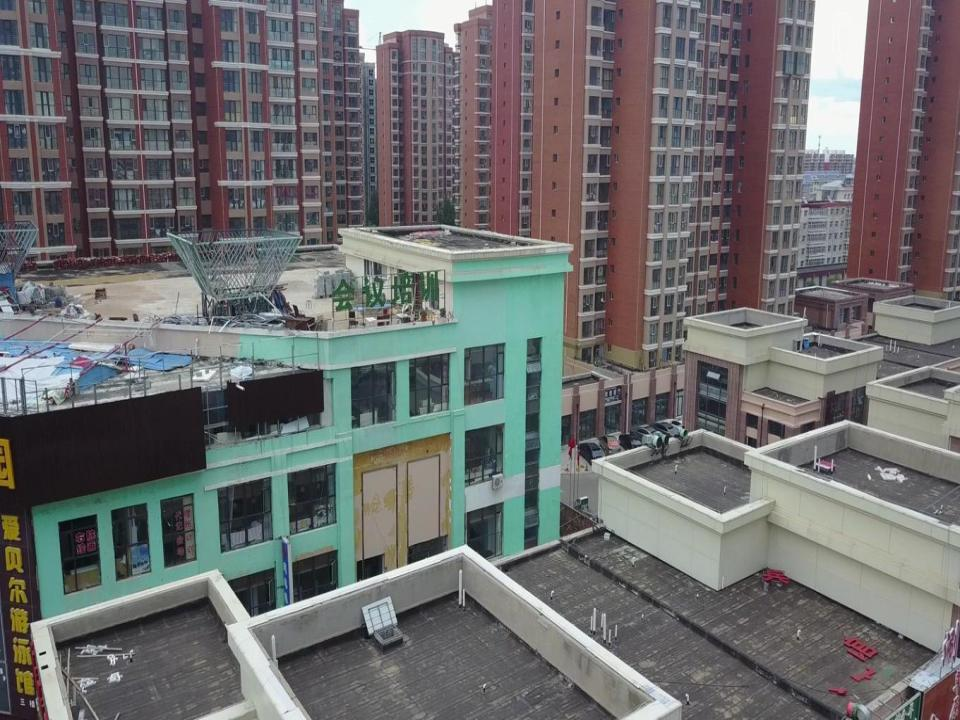car: (649, 419, 684, 439), (576, 441, 604, 465), (629, 424, 662, 443), (619, 433, 642, 452), (599, 435, 620, 455)
